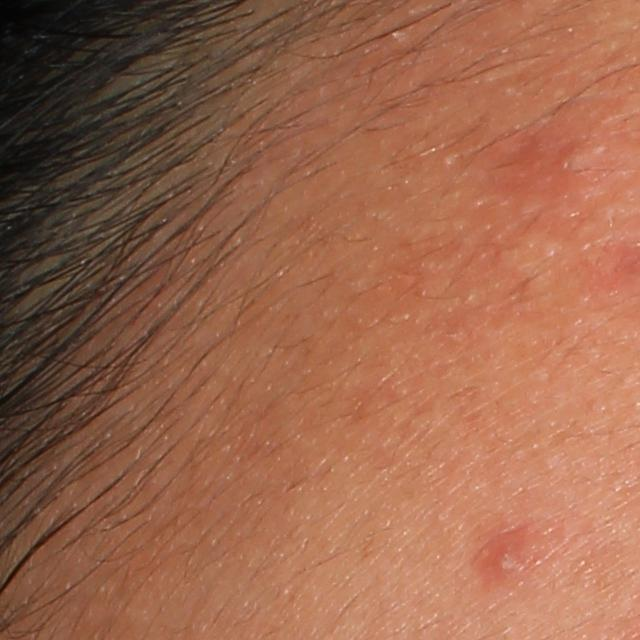comedo: (553, 138, 606, 191), (442, 147, 456, 168)
papule: (467, 525, 528, 587)
